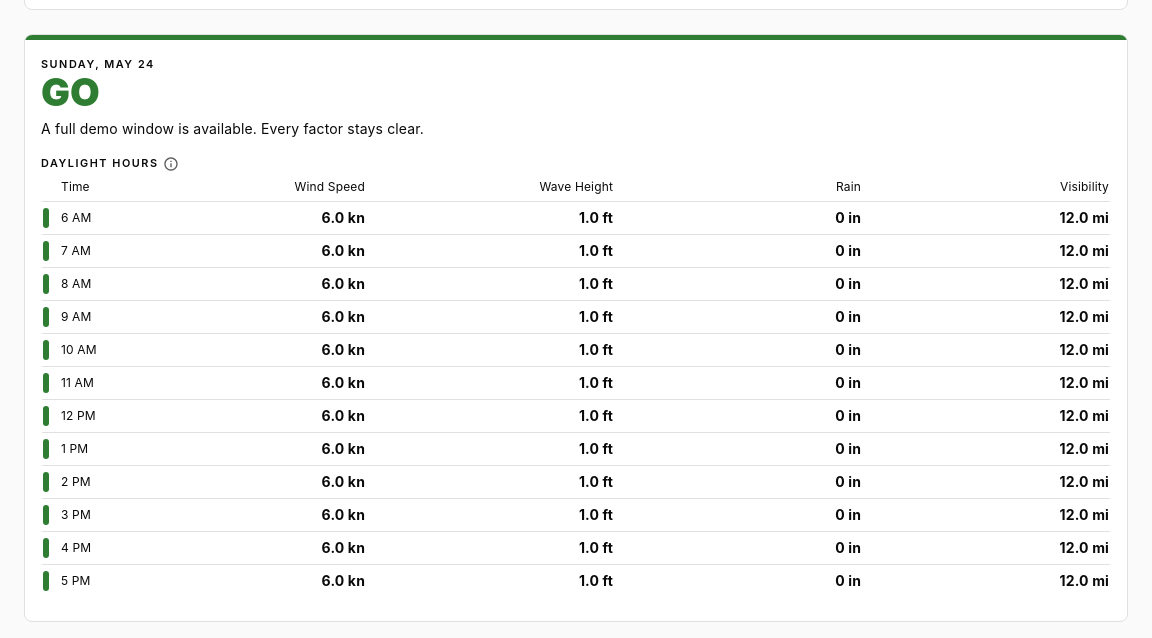
Scenario: pin a demo window › confirming pins the window to the top slot, and Unpin clears it
(page scrolled)
Expected: the element "pinned demo window" is not shown
Click the button with aria-label "pin a demo window around 10 AM": [576, 349] box [41,333,1111,366]
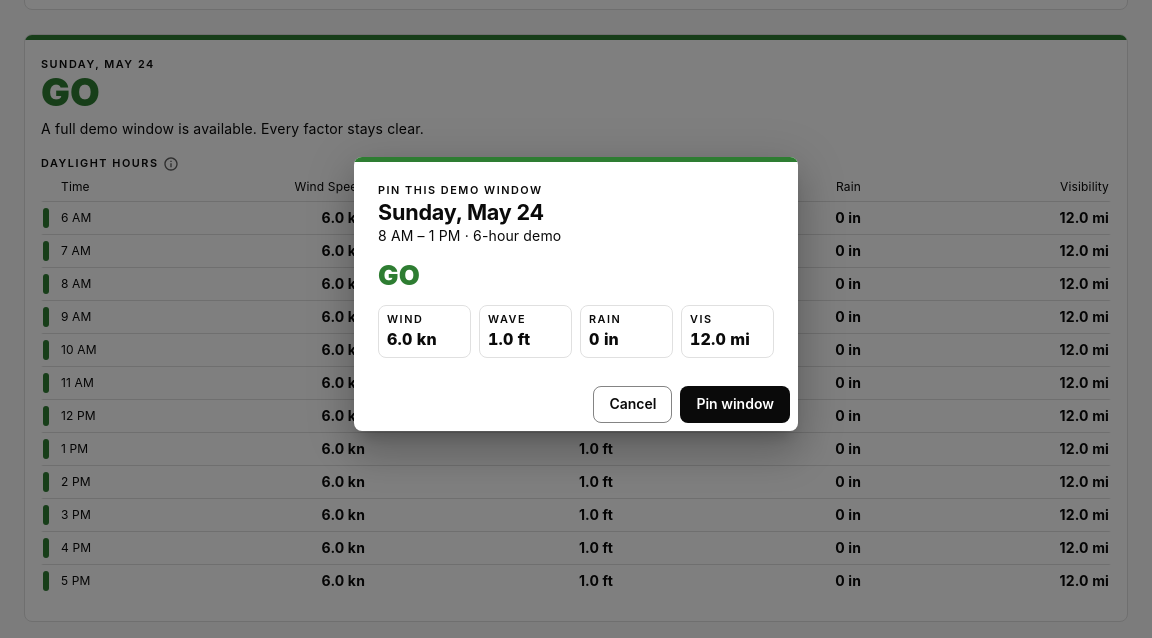
Click the button "Pin window": [735, 404] box [680,386,790,423]
(page scrolled)
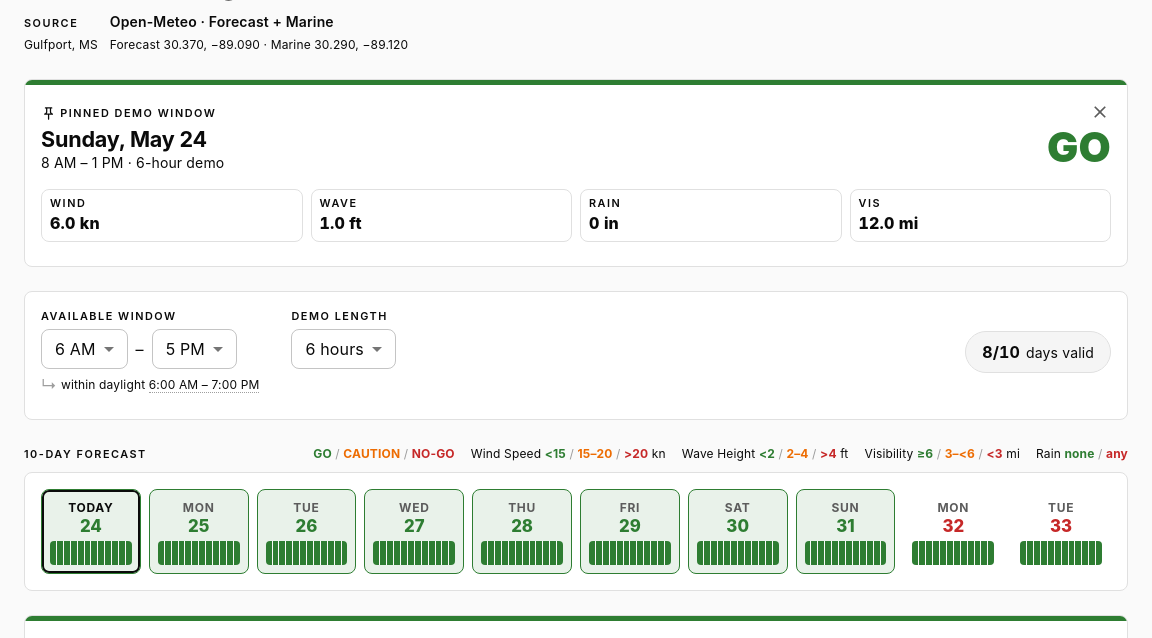
Now the text "8 AM – 1 PM · 6-hour demo" is shown, box [41,154,224,171]
Now the element "Pinned demo window" is shown, box [24,79,1128,267]
Now the text "Pinned demo window" is shown, box [41,105,216,122]
Click the button named "unpin": [1100, 112] box [1085,97,1115,127]
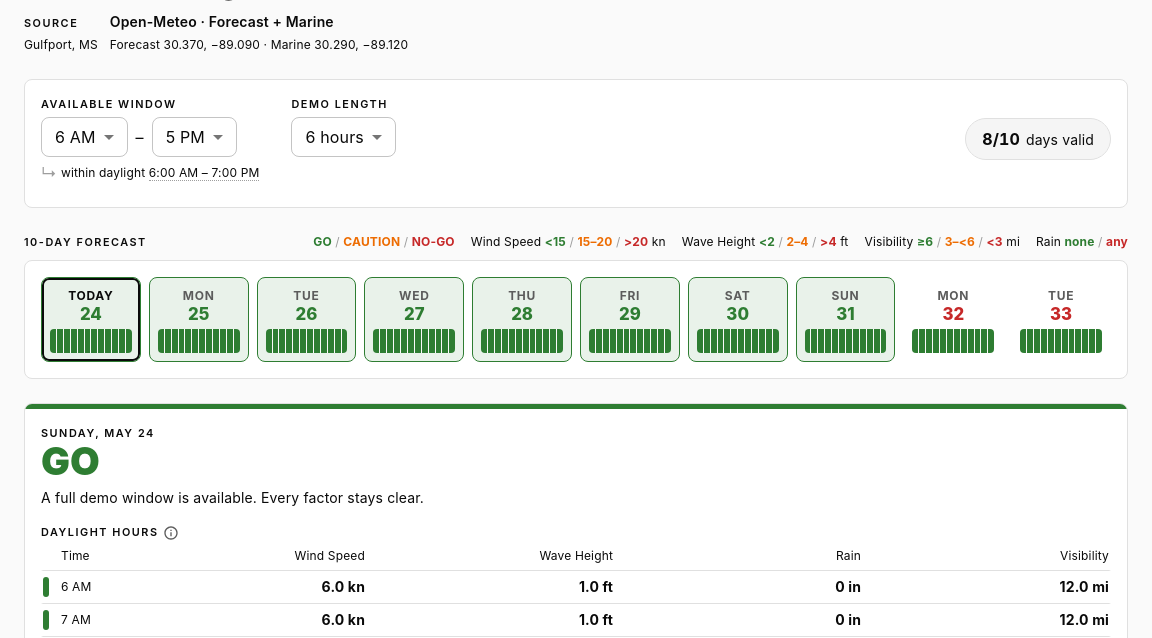
Now the element "Pinned demo window" is gone
